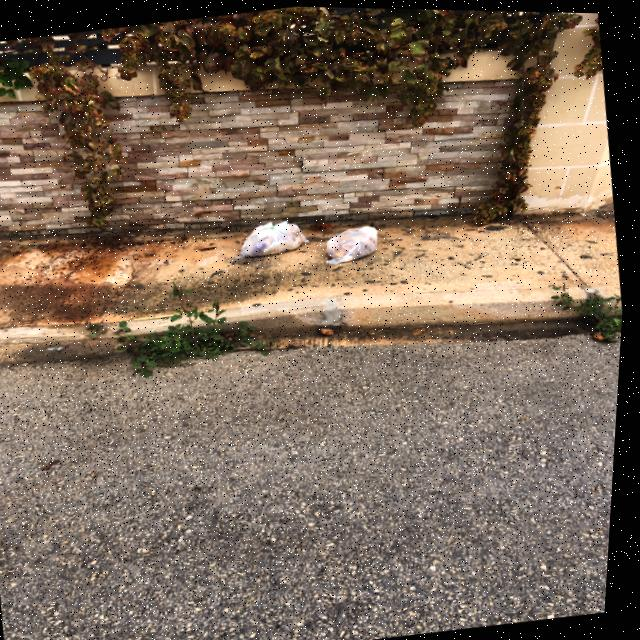Organic Waste -White Bag-: (242, 215, 312, 261), (325, 220, 390, 269)
